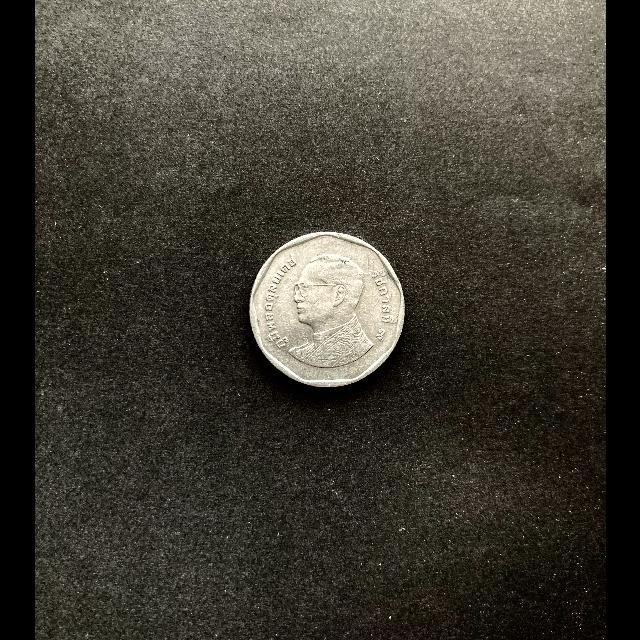5 Bath: (249, 231, 409, 392)
